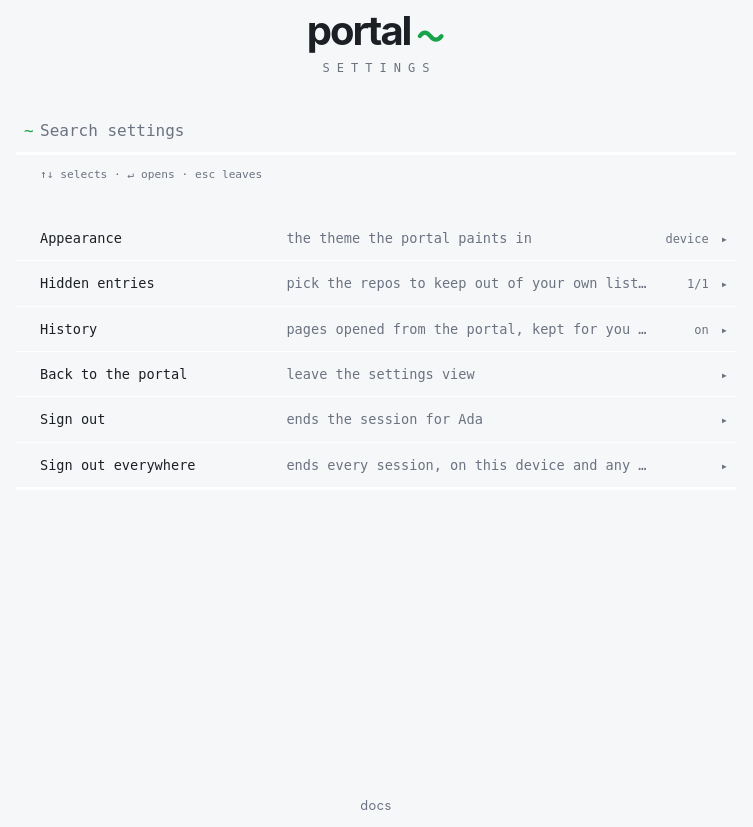
it: the history section › asks once before forgetting every page
Expected: the list item "Appearance the theme the portal paints in device ▸" is shown, [40,230,728,246]
Click the list item that starts with "History" at (376, 328), box [16,306,736,351]
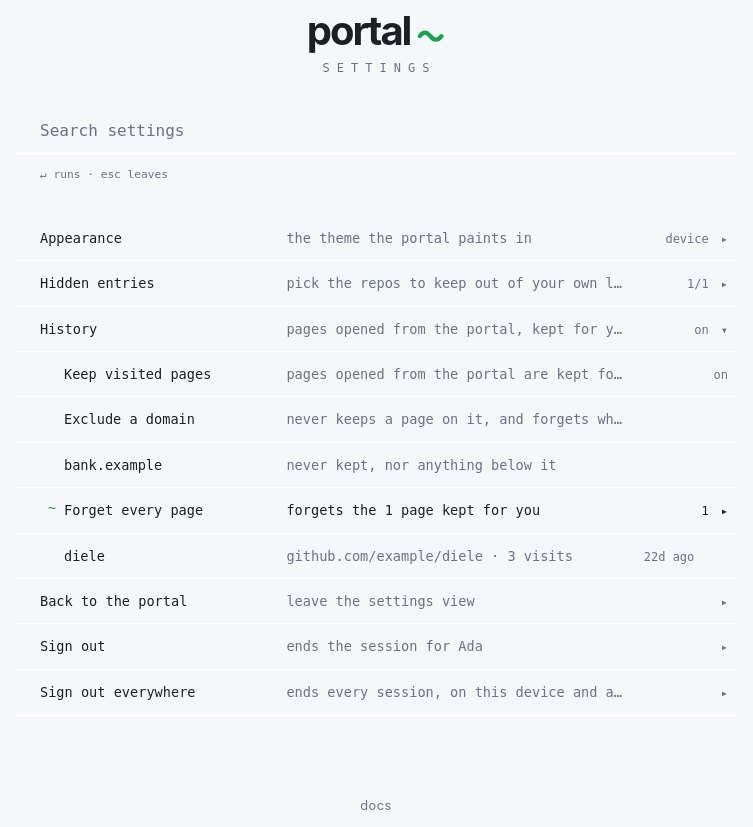
Expected: the number of "SettingsItemRow" components is 2, [16,442,736,487]; [16,532,736,578]
Press Enter in the list item "Forget every page forgets the 1 page kept for you 1 ▸", box [16,487,736,532]
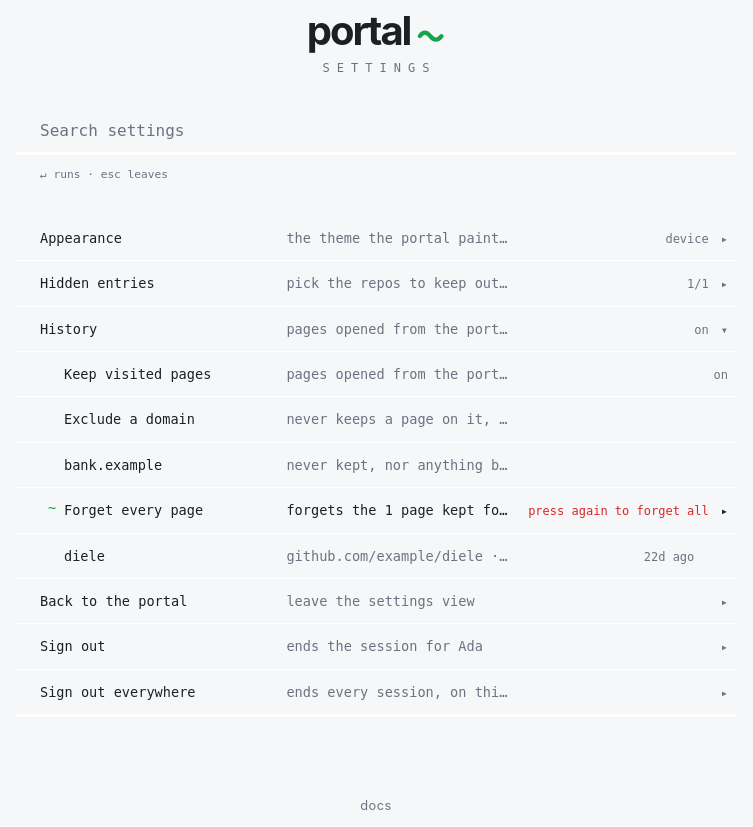
Expected: the text "press again to forget all" is shown, [528,502,709,520]
Press Enter in the list item that starts with "Forget every page", box [16,487,736,532]
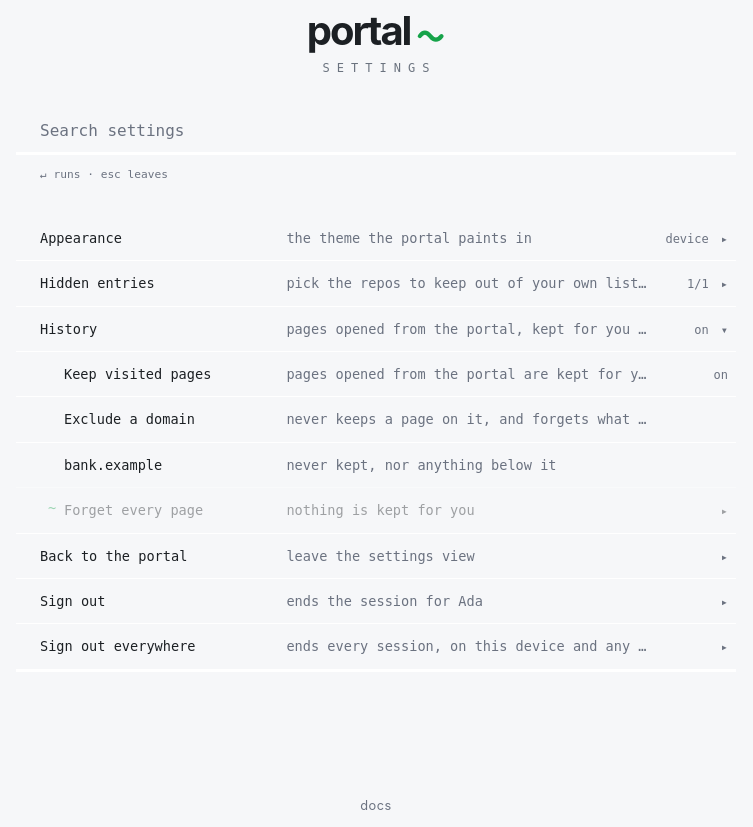
Expected: the text "nothing is kept for you" is shown, [286,502,475,518]
